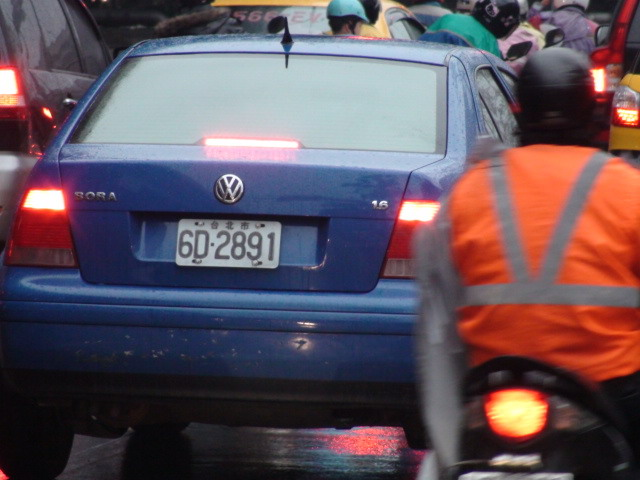plate: (174, 214, 285, 272)
